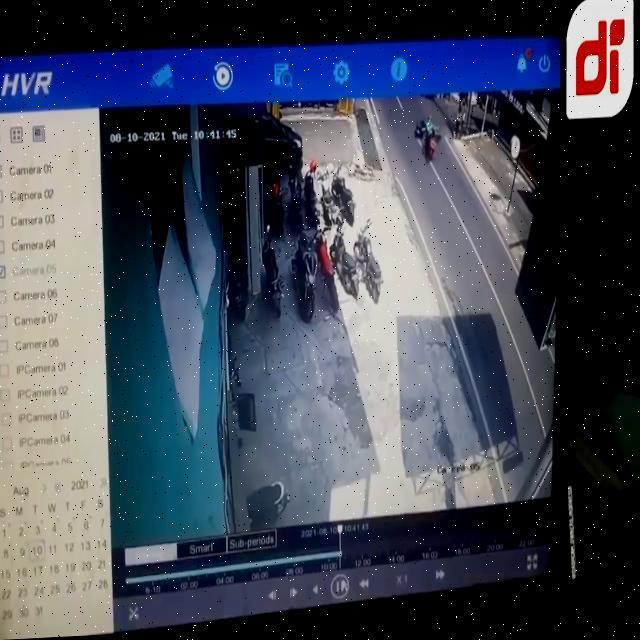normal: (257, 157, 390, 319)
single accident: (390, 110, 483, 184)
